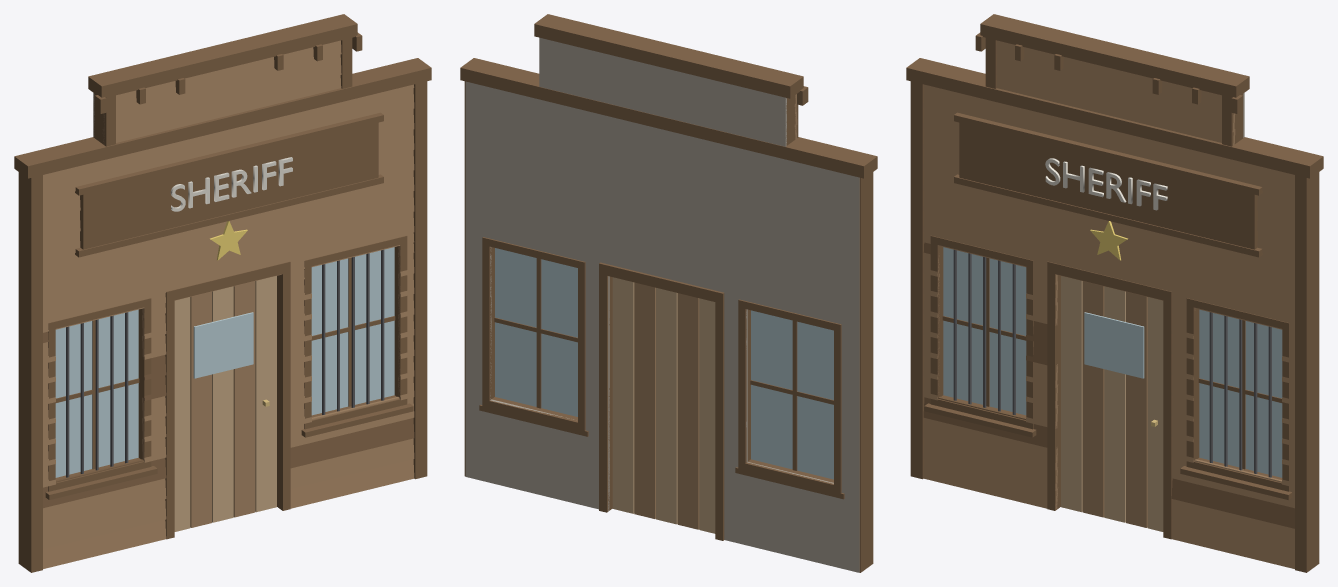
The model's file is SM_Facade_Sheriff.glb.
3 views of the same model, side by side, from view 1: azimuth 30°, elevation 25°; view 2: azimuth 150°, elevation 25°; view 3: azimuth 330°, elevation 25° (orthographic).
Parts seen in each view (by area): view 1: SM_Facade_Sheriff; view 2: SM_Facade_Sheriff; view 3: SM_Facade_Sheriff.
Part boxes in pixels (x1=…): SM_Facade_Sheriff: x1=14, y1=14, x2=431, y2=572; SM_Facade_Sheriff: x1=460, y1=14, x2=877, y2=572; SM_Facade_Sheriff: x1=906, y1=14, x2=1323, y2=572.
Bounding box in the file's own units: 4.1 × 4.56 × 0.305.
